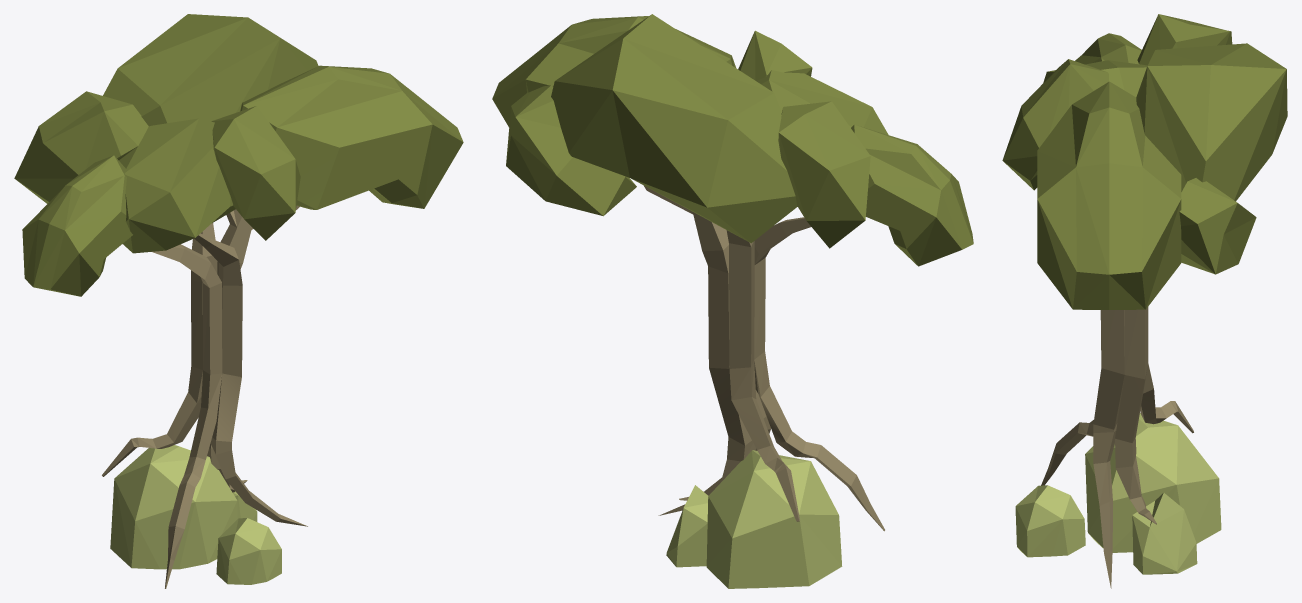
Rendered from Big Tree Quack Quack.FBX.
3 views of the same model, side by side, from view 1: azimuth 30°, elevation 25°; view 2: azimuth 150°, elevation 25°; view 3: azimuth 270°, elevation 25° (orthographic). The views are drawn at different scales.
Parts seen in each view (by area): view 1: Box001; view 2: Box001; view 3: Box001.
Boxes of the visible parts, <box> form: Box001: <box>14,14,463,588</box>; Box001: <box>492,14,973,588</box>; Box001: <box>1002,14,1287,588</box>.
Size of the model in its own units: 101 by 108 by 53.65.
Materials: 1 (1 with a texture image).
